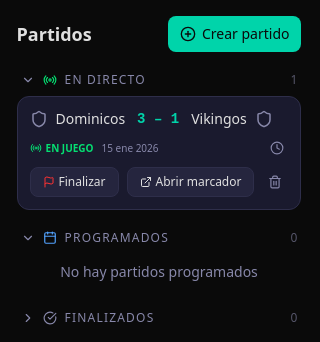
Test: AdminPartidosPage › clicking expanded En directo section hides its matches
Check: the text "Dominicos" is shown, box x1=56 y1=109 x2=125 y2=129
Click the button "En directo 1". click: (105, 80)
box: x1=16 y1=72 x2=301 y2=88
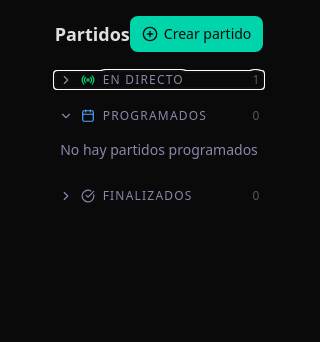
Check: the text "Dominicos" is gone
